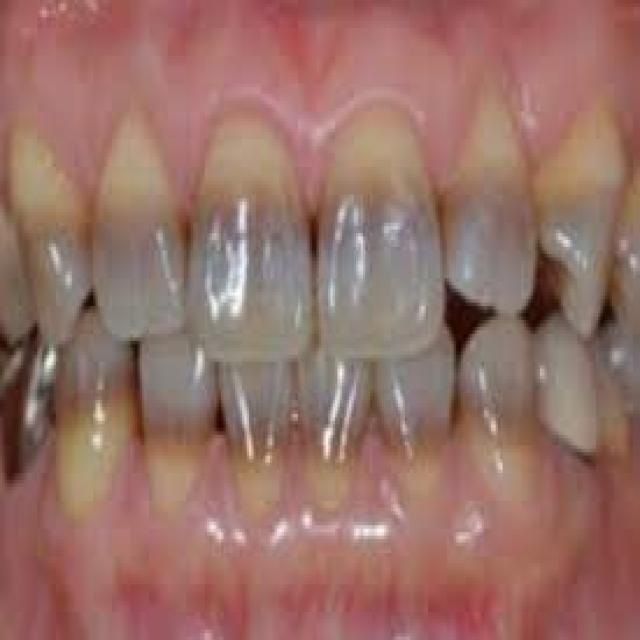Tooth Discoloration: (9, 163, 622, 261), (49, 377, 533, 496)
